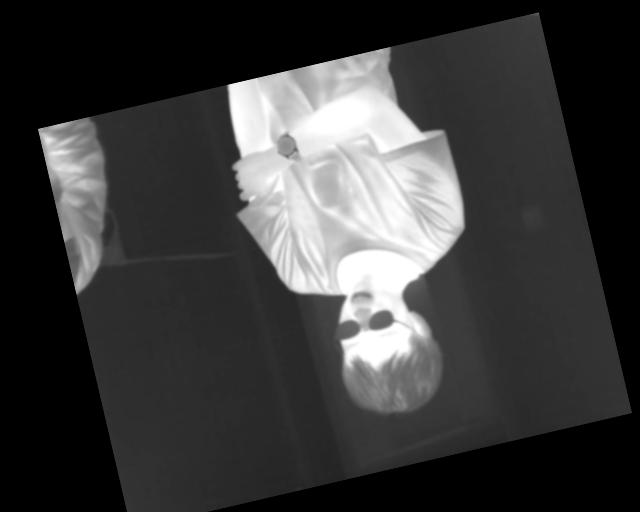face: (320, 268, 454, 427)
